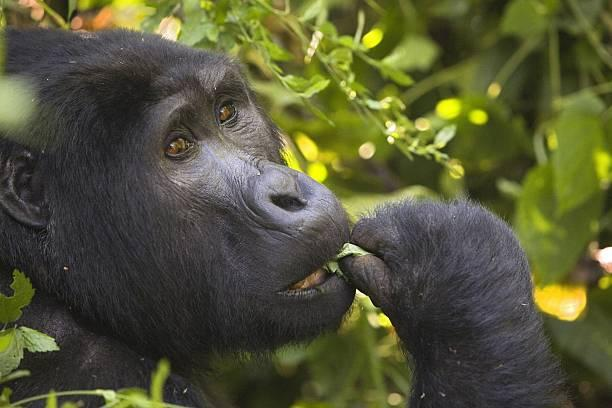gorille_Autres: (0, 3, 569, 403)
